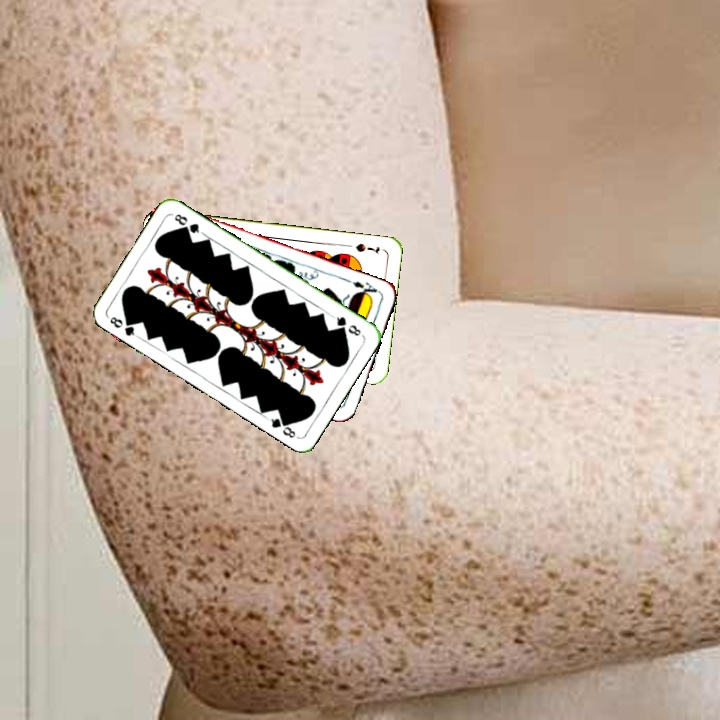EA: (349, 277, 382, 300)
G8: (104, 312, 141, 340), (328, 312, 364, 339)
S7: (352, 239, 382, 256)
